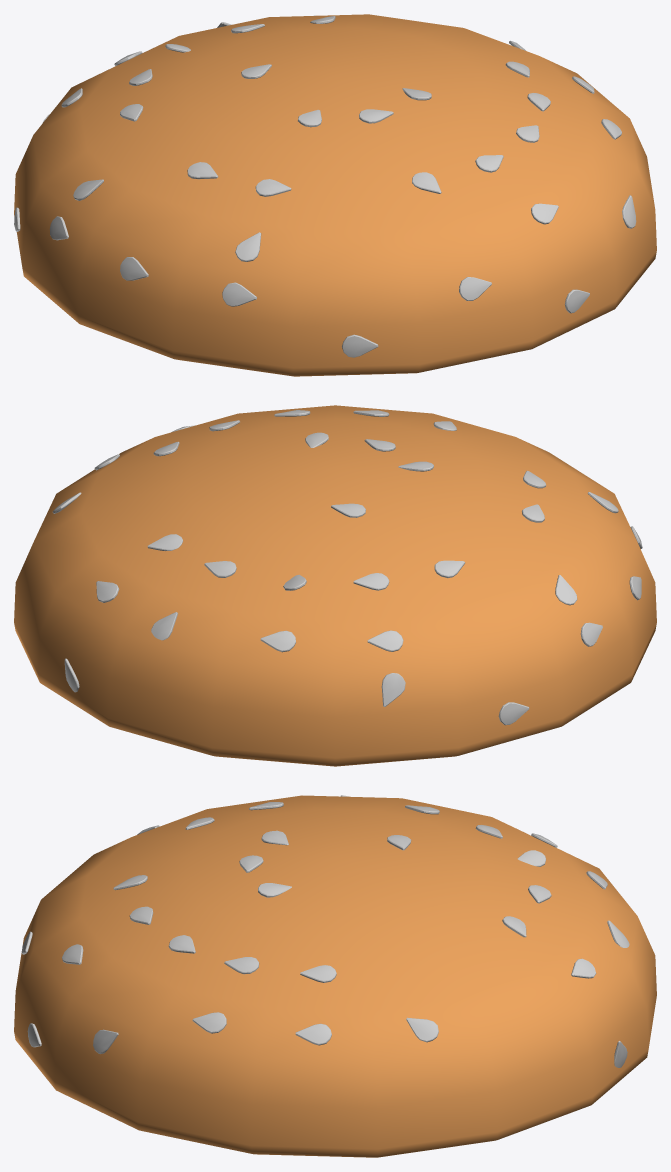
Rendered from burger_bun_top.fbx.
3 views of the same model, one above another, from view 1: azimuth 30°, elevation 25°; view 2: azimuth 150°, elevation 25°; view 3: azimuth 270°, elevation 25° (orthographic).
Visible parts, largest first — view 1: bun_top, sesame; view 2: bun_top, sesame; view 3: bun_top, sesame.
Boxes of the visible parts, x1=… form: bun_top: x1=14, y1=14, x2=656, y2=376; sesame: x1=14, y1=15, x2=636, y2=357; bun_top: x1=14, y1=405, x2=656, y2=766; sesame: x1=52, y1=410, x2=642, y2=725; bun_top: x1=14, y1=795, x2=656, y2=1157; sesame: x1=21, y1=795, x2=629, y2=1067.
Size of the model in its own units: 252 by 72.73 by 252.
